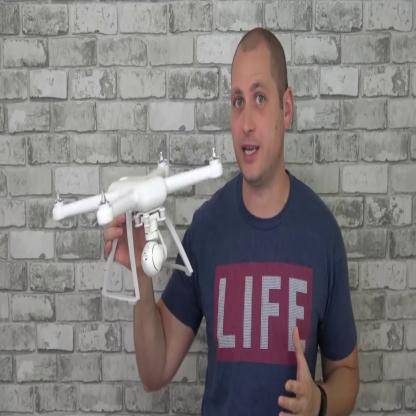drone: (50, 148, 226, 229)
